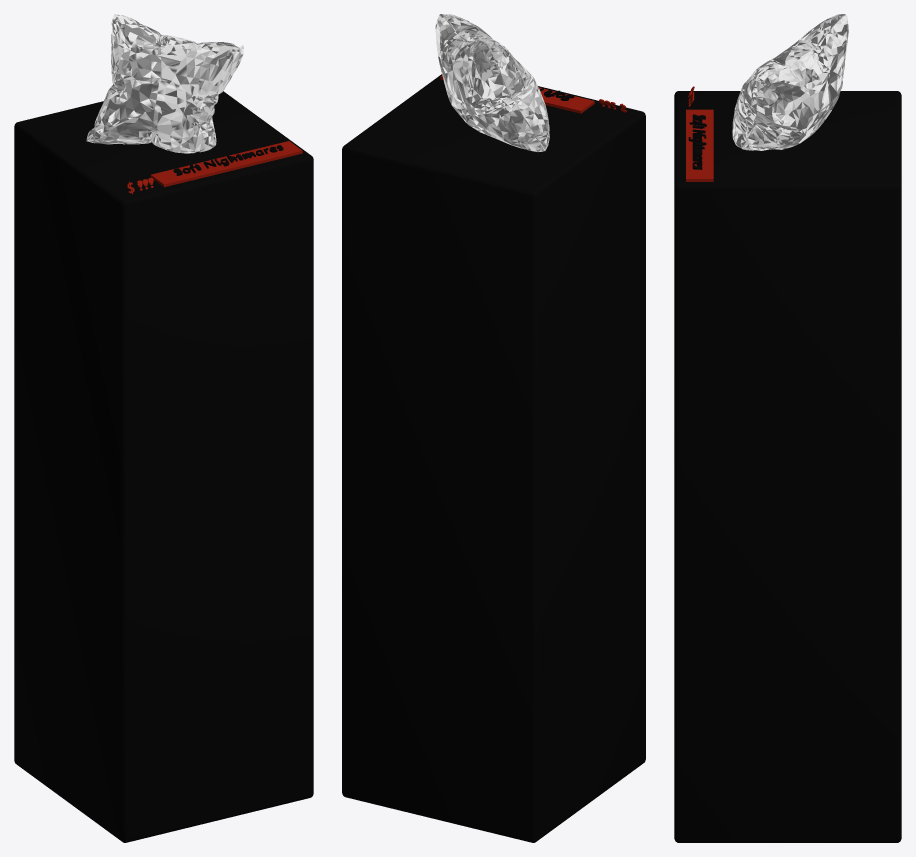
Rendered from Art3.fbx.
3 renders of one model, left to right at view 1: azimuth 30°, elevation 25°; view 2: azimuth 150°, elevation 25°; view 3: azimuth 270°, elevation 25°, orthographic. The views are drawn at different scales.
Visible parts, largest first — view 1: Plinth2_1, throw_pillows_01_pillow01_fracturepart2, banana_name_1, throw_pillows_01_pillow01_fracturepart1, throw_pillows_01_pillow01_fracturepart10, throw_pillows_01_pillow01_fracturepart19, throw_pillows_01_pillow01_fracturepart13, throw_pillows_01_pillow01_fracturepart20, throw_pillows_01_pillow01_fracturepart7, throw_pillows_01_pillow01_fracturepart4, throw_pillows_01_pillow01_fracturepart9; view 2: Plinth2_1, throw_pillows_01_pillow01_fracturepart9, throw_pillows_01_pillow01_fracturepart16, throw_pillows_01_pillow01_fracturepart11, throw_pillows_01_pillow01_fracturepart6, throw_pillows_01_pillow01_fracturepart20, throw_pillows_01_pillow01_fracturepart3, throw_pillows_01_pillow01_fracturepart1, banana_name_1; view 3: Plinth2_1, throw_pillows_01_pillow01_fracturepart18, throw_pillows_01_pillow01_fracturepart6, banana_name_1, throw_pillows_01_pillow01_fracturepart3, throw_pillows_01_pillow01_fracturepart2, throw_pillows_01_pillow01_fracturepart14, throw_pillows_01_pillow01_fracturepart8, throw_pillows_01_pillow01_fracturepart20, throw_pillows_01_pillow01_fracturepart4.
Boxes of the visible parts, left/top/right/bottom form: Plinth2_1: left=14, top=91, right=313, bottom=842; throw_pillows_01_pillow01_fracturepart2: left=161, top=42, right=243, bottom=103; banana_name_1: left=150, top=141, right=302, bottom=187; throw_pillows_01_pillow01_fracturepart1: left=103, top=79, right=158, bottom=127; throw_pillows_01_pillow01_fracturepart10: left=157, top=107, right=208, bottom=148; throw_pillows_01_pillow01_fracturepart19: left=114, top=46, right=161, bottom=82; throw_pillows_01_pillow01_fracturepart13: left=109, top=109, right=160, bottom=146; throw_pillows_01_pillow01_fracturepart20: left=111, top=14, right=158, bottom=48; throw_pillows_01_pillow01_fracturepart7: left=155, top=80, right=214, bottom=115; throw_pillows_01_pillow01_fracturepart4: left=165, top=115, right=216, bottom=153; throw_pillows_01_pillow01_fracturepart9: left=86, top=96, right=124, bottom=144; Plinth2_1: left=342, top=74, right=645, bottom=842; throw_pillows_01_pillow01_fracturepart9: left=486, top=108, right=549, bottom=152; throw_pillows_01_pillow01_fracturepart16: left=473, top=55, right=523, bottom=111; throw_pillows_01_pillow01_fracturepart11: left=455, top=79, right=508, bottom=127; throw_pillows_01_pillow01_fracturepart6: left=440, top=24, right=486, bottom=80; throw_pillows_01_pillow01_fracturepart20: left=472, top=38, right=510, bottom=74; throw_pillows_01_pillow01_fracturepart3: left=454, top=38, right=481, bottom=88; throw_pillows_01_pillow01_fracturepart1: left=518, top=69, right=547, bottom=117; banana_name_1: left=440, top=75, right=594, bottom=113; Plinth2_1: left=674, top=91, right=901, bottom=842; throw_pillows_01_pillow01_fracturepart18: left=749, top=81, right=824, bottom=129; throw_pillows_01_pillow01_fracturepart6: left=779, top=45, right=829, bottom=91; banana_name_1: left=686, top=109, right=713, bottom=181; throw_pillows_01_pillow01_fracturepart3: left=796, top=33, right=847, bottom=84; throw_pillows_01_pillow01_fracturepart2: left=742, top=46, right=794, bottom=110; throw_pillows_01_pillow01_fracturepart14: left=745, top=115, right=795, bottom=150; throw_pillows_01_pillow01_fracturepart8: left=773, top=103, right=826, bottom=145; throw_pillows_01_pillow01_fracturepart20: left=796, top=14, right=848, bottom=44; throw_pillows_01_pillow01_fracturepart4: left=732, top=111, right=750, bottom=150.
Bounding box in the file's own units: 25 × 93.66 × 25.
3 materials, 2 textured.
